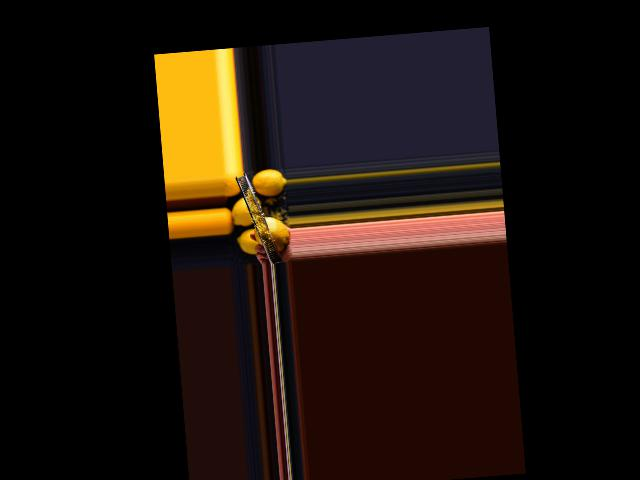lemon: (251, 168, 287, 202)
